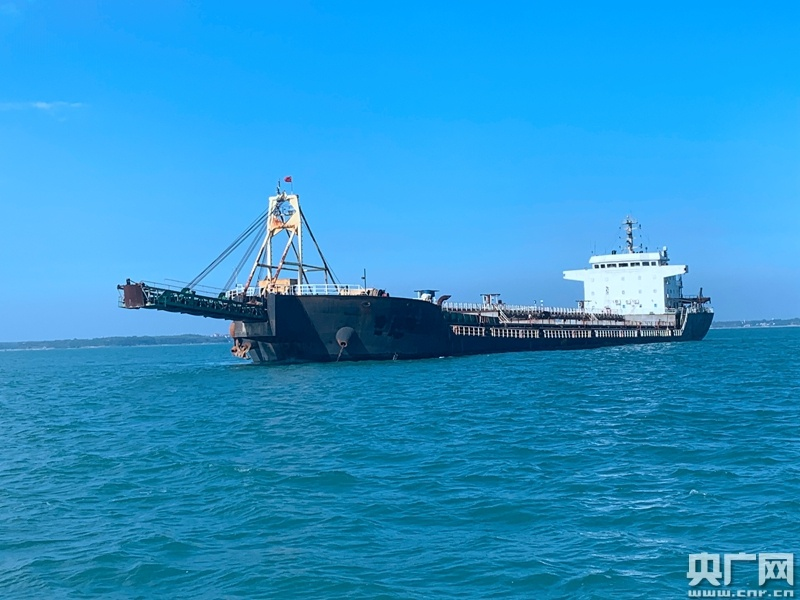Cargoship: (105, 189, 716, 364)
